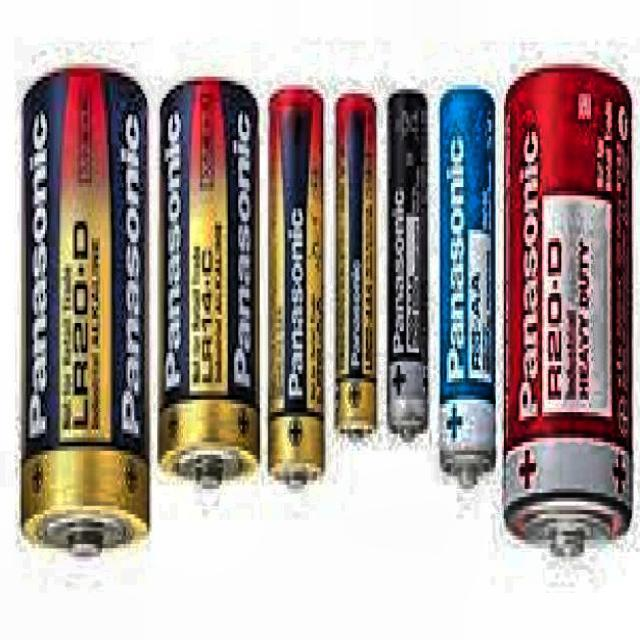battery: (21, 68, 150, 560), (504, 72, 629, 557), (158, 78, 261, 489), (268, 87, 326, 489), (440, 87, 495, 489), (334, 94, 377, 439), (386, 93, 428, 443)
